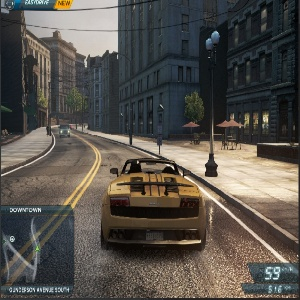lamp post: (109, 49, 138, 149), (204, 30, 223, 177)
road sign: (153, 120, 166, 154)
vehicle: (59, 125, 71, 137)
